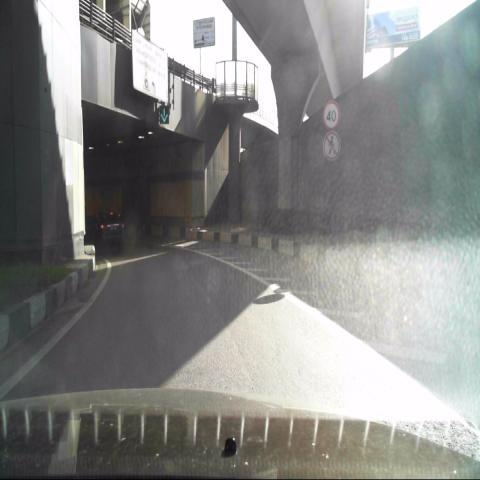3_10: (321, 130, 340, 161)
